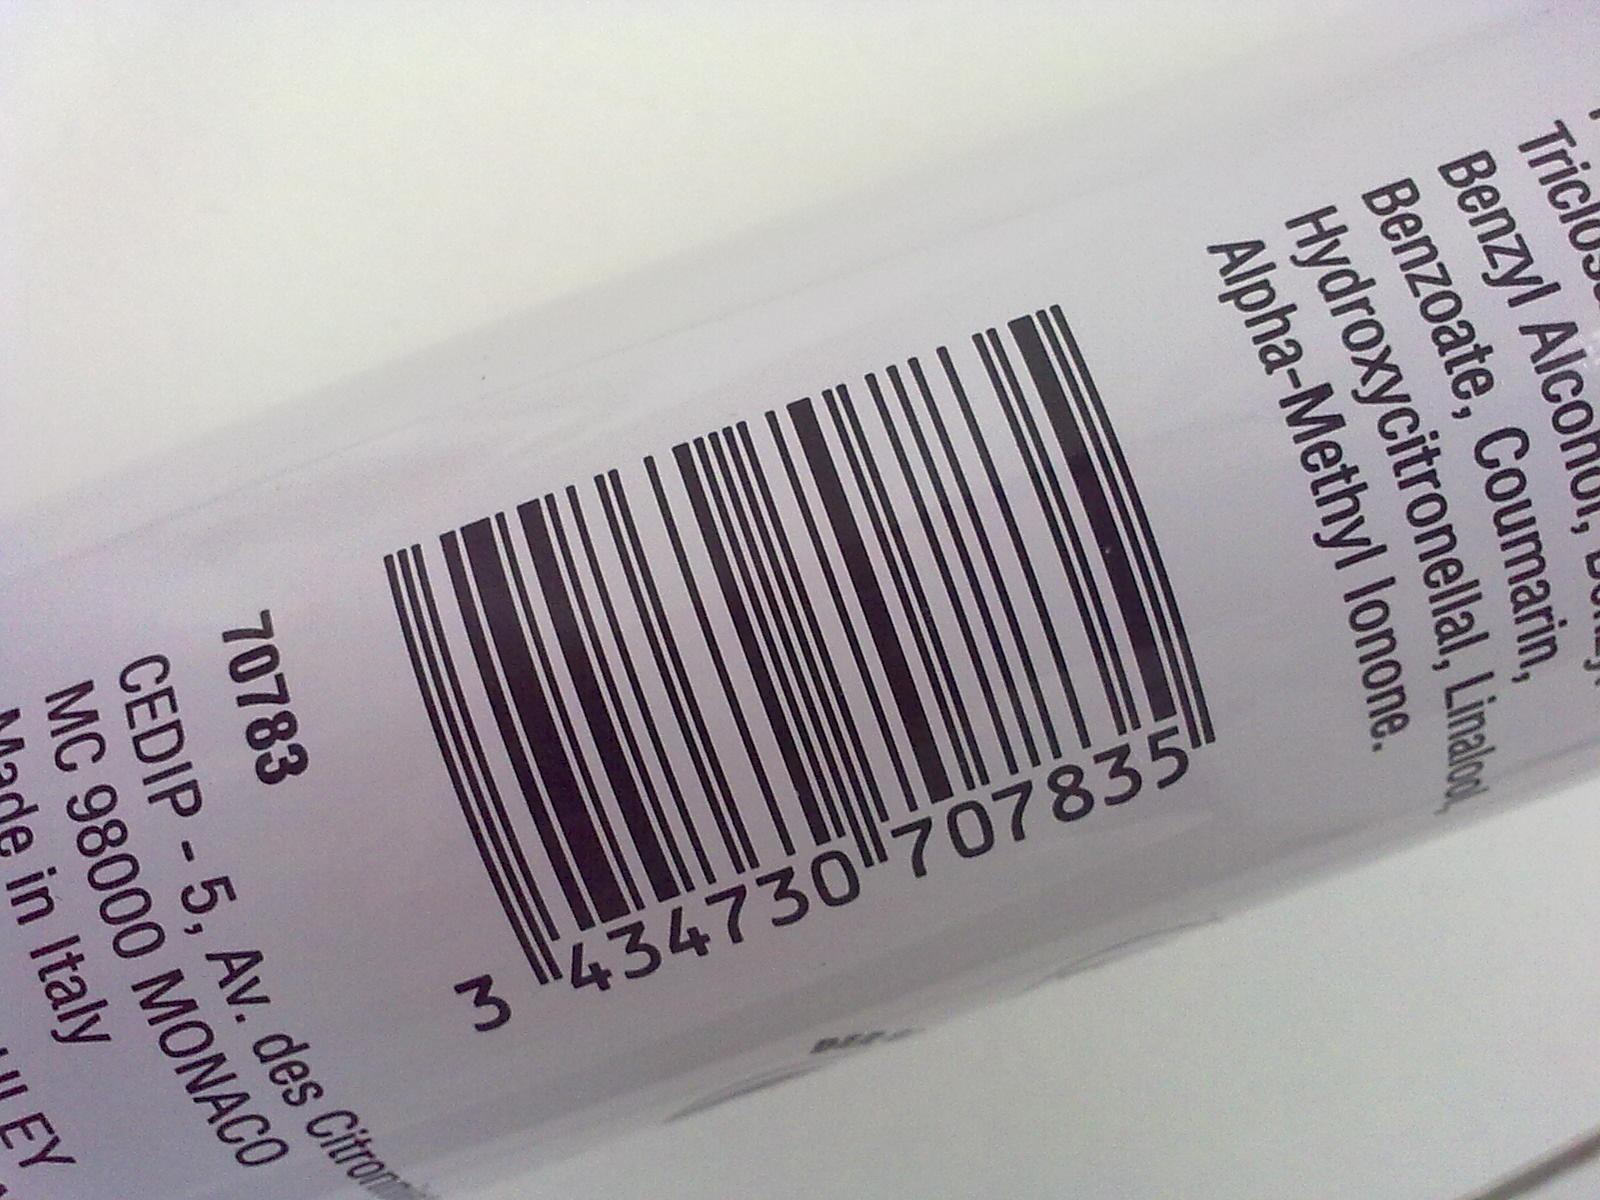barcode: (370, 297, 1225, 1045)
